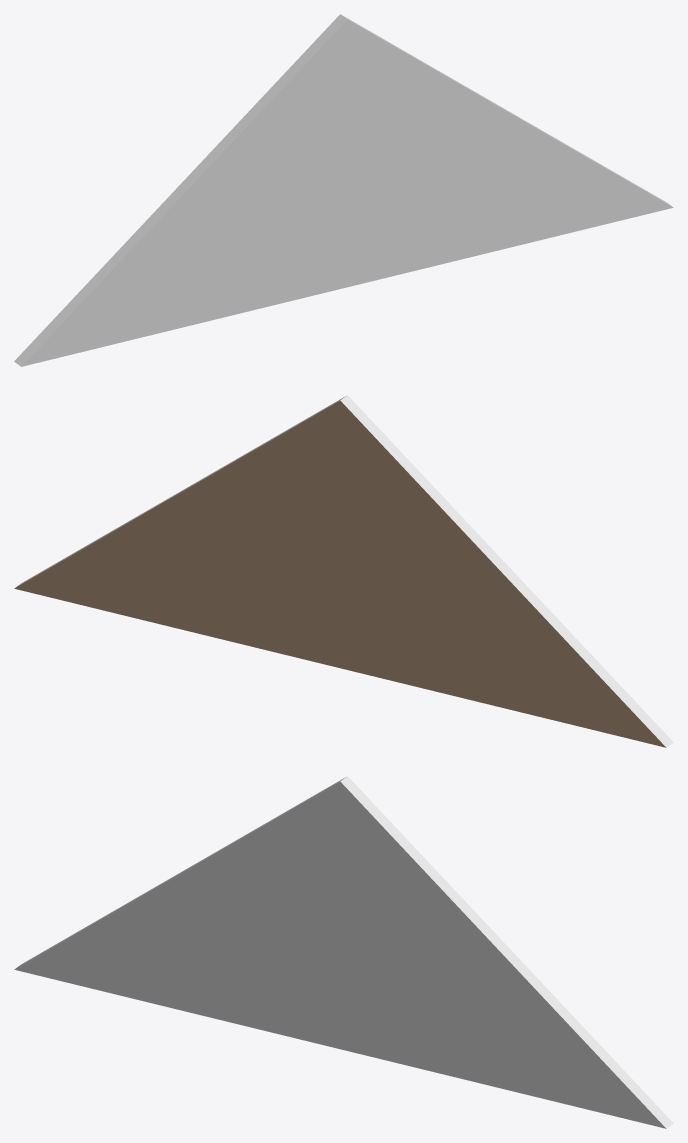
The model's file is Wall2_C2_18.fbx.
3 renders of one model, top to bottom at view 1: azimuth 30°, elevation 25°; view 2: azimuth 150°, elevation 25°; view 3: azimuth 330°, elevation 25°, orthographic.
Parts seen in each view (by area): view 1: Wall2_C2_18; view 2: Wall2_C2_18; view 3: Wall2_C2_18.
Part boxes in pixels (x1,y1,x2,y2): Wall2_C2_18: (14, 14, 673, 366); Wall2_C2_18: (14, 395, 673, 747); Wall2_C2_18: (14, 776, 673, 1128).
Size of the model in its own units: 765 by 300 by 15.
